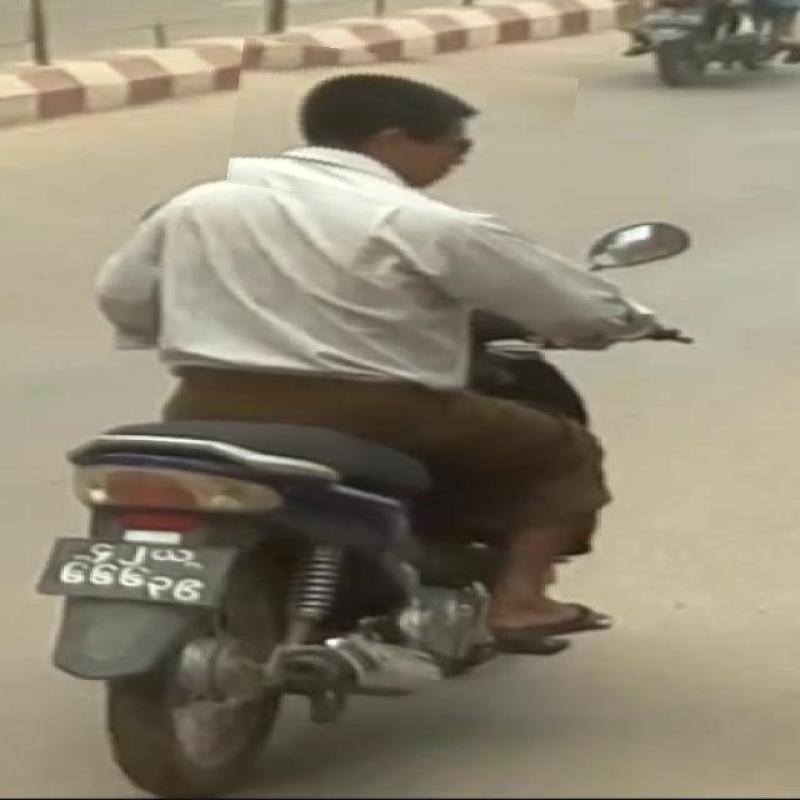nohelmet: (230, 47, 575, 214)
